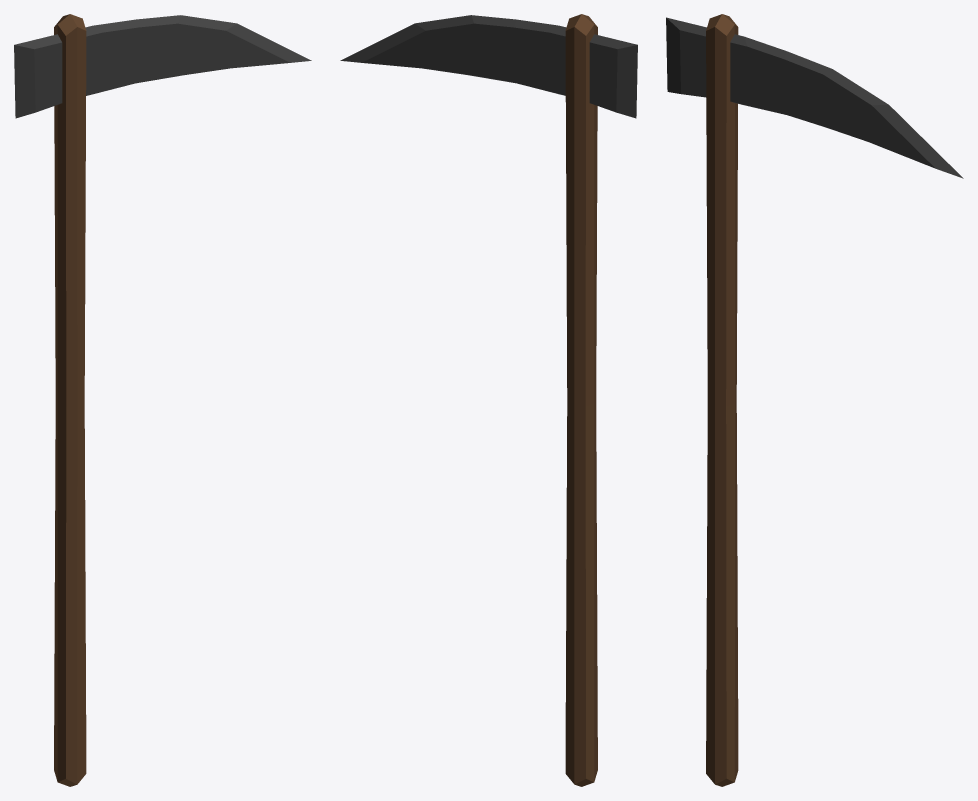
The model's file is hoe.fbx.
3 renders of one model, left to right at view 1: azimuth 30°, elevation 25°; view 2: azimuth 150°, elevation 25°; view 3: azimuth 330°, elevation 25°, orthographic.
Parts seen in each view (by area): view 1: Cube, Plane; view 2: Cube, Plane; view 3: Cube, Plane.
Boxes of the visible parts, <box> form: Cube: <box>54,14,86,786</box>; Plane: <box>14,15,311,118</box>; Cube: <box>565,14,597,786</box>; Plane: <box>340,15,637,118</box>; Cube: <box>706,14,738,786</box>; Plane: <box>666,17,963,178</box>.
Bounding box in the file's own units: 132 × 328 × 11.27.
